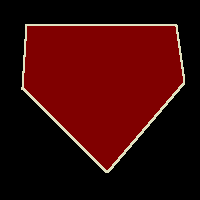tie: (22, 24, 184, 172)
